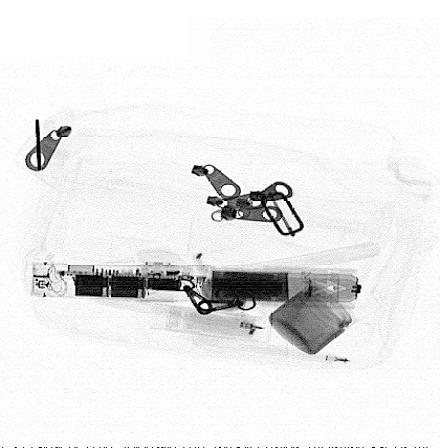Baton: (24, 261, 362, 310)
